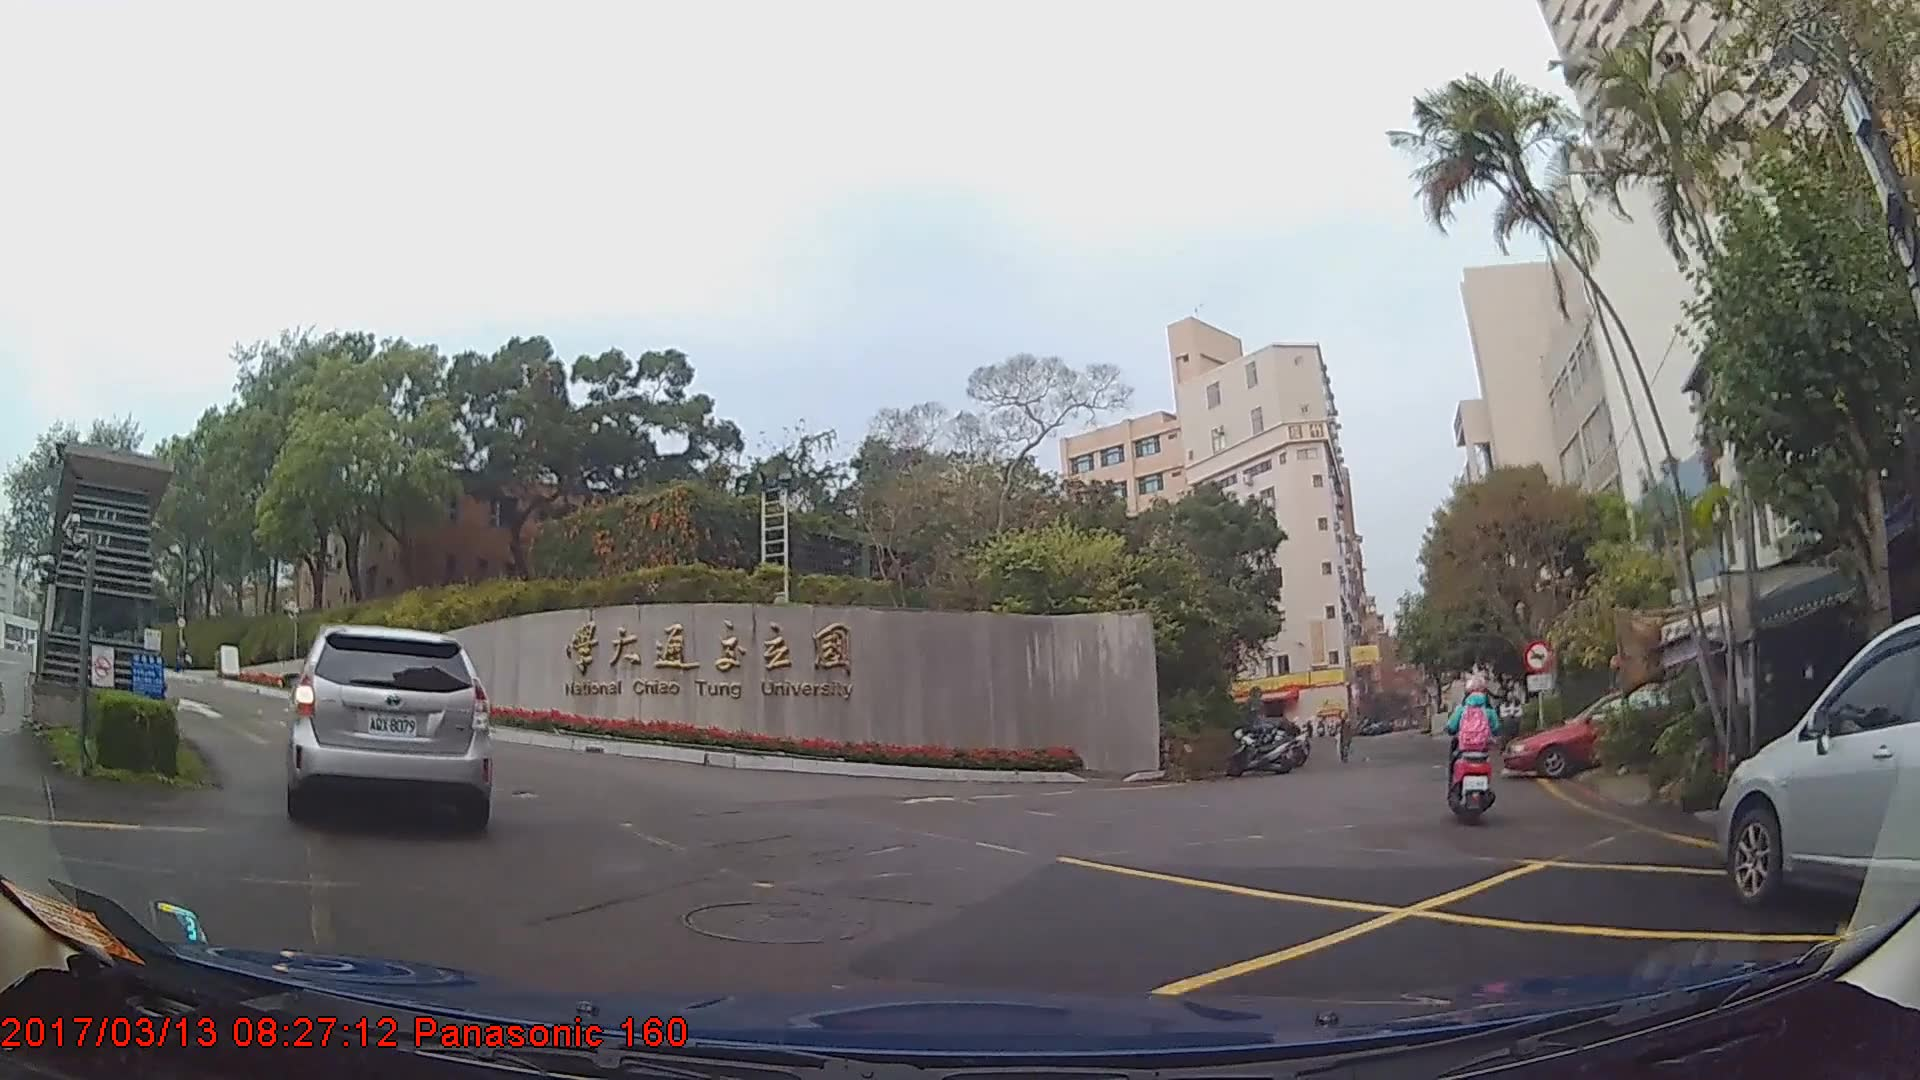pedestrian: (1334, 711, 1357, 767)
rider: (1444, 666, 1500, 825)
vehicle: (1715, 613, 1920, 904), (281, 623, 490, 834), (1505, 685, 1701, 778)
